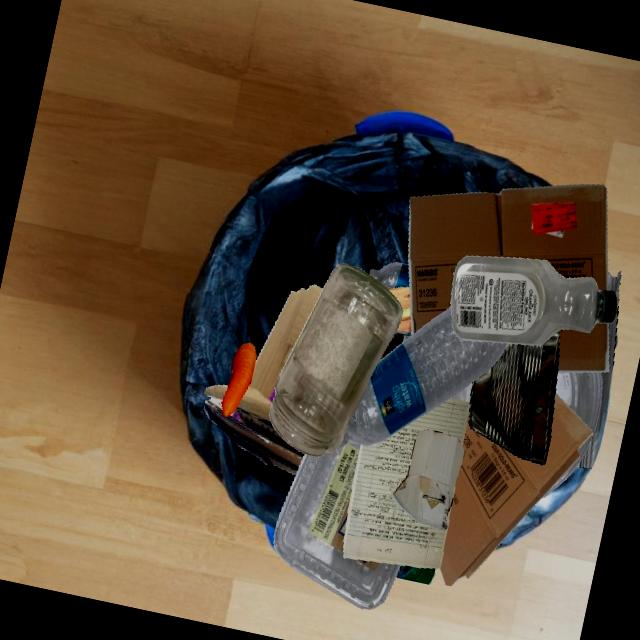biowaste: (221, 342, 256, 416)
cardboard: (408, 184, 607, 335), (438, 392, 592, 586), (203, 285, 323, 475), (391, 429, 465, 529)
combustible waste: (388, 286, 411, 332)
glass: (269, 263, 402, 457), (378, 332, 412, 361)
metal: (468, 331, 559, 464)
paper: (343, 398, 469, 568)
plastic: (335, 306, 506, 450), (273, 442, 400, 609), (450, 255, 617, 345), (576, 270, 621, 468), (540, 371, 602, 498), (368, 262, 409, 289), (396, 565, 435, 584), (394, 331, 411, 334)
